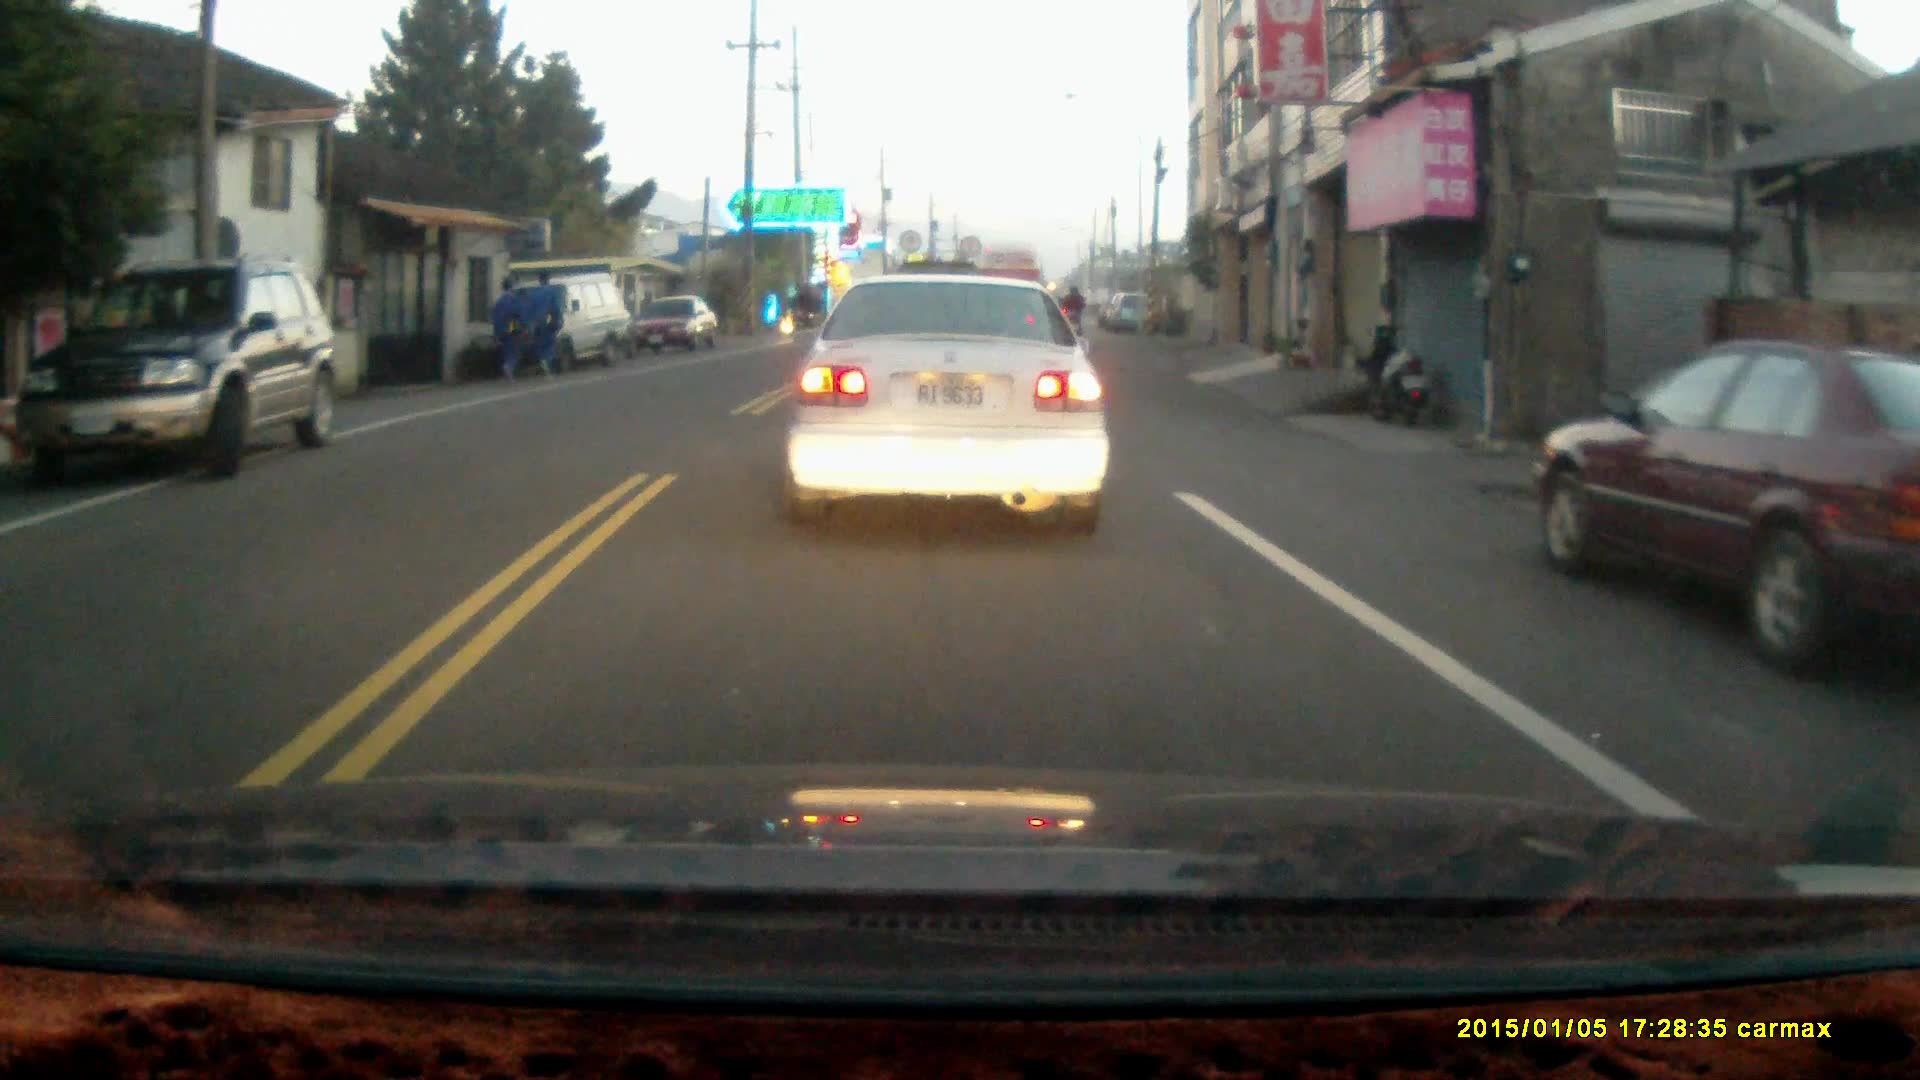pedestrian: (491, 272, 529, 388), (528, 263, 563, 378)
rider: (789, 281, 823, 339)
vehicle: (1548, 338, 1920, 674), (784, 267, 1113, 536), (27, 265, 342, 481), (505, 270, 642, 366), (625, 297, 720, 362)
